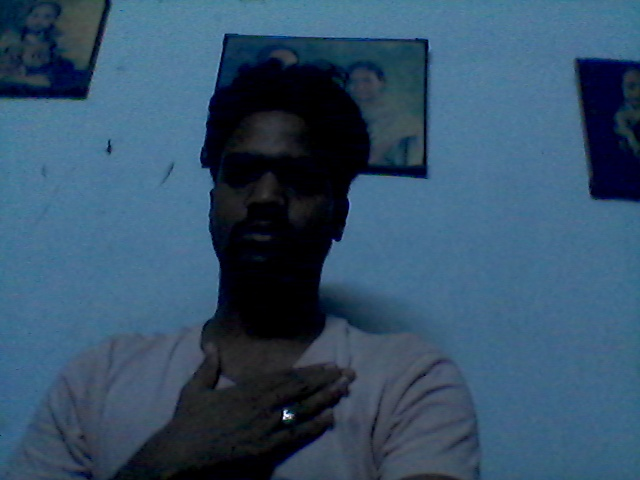Fine: (164, 342, 358, 480)
